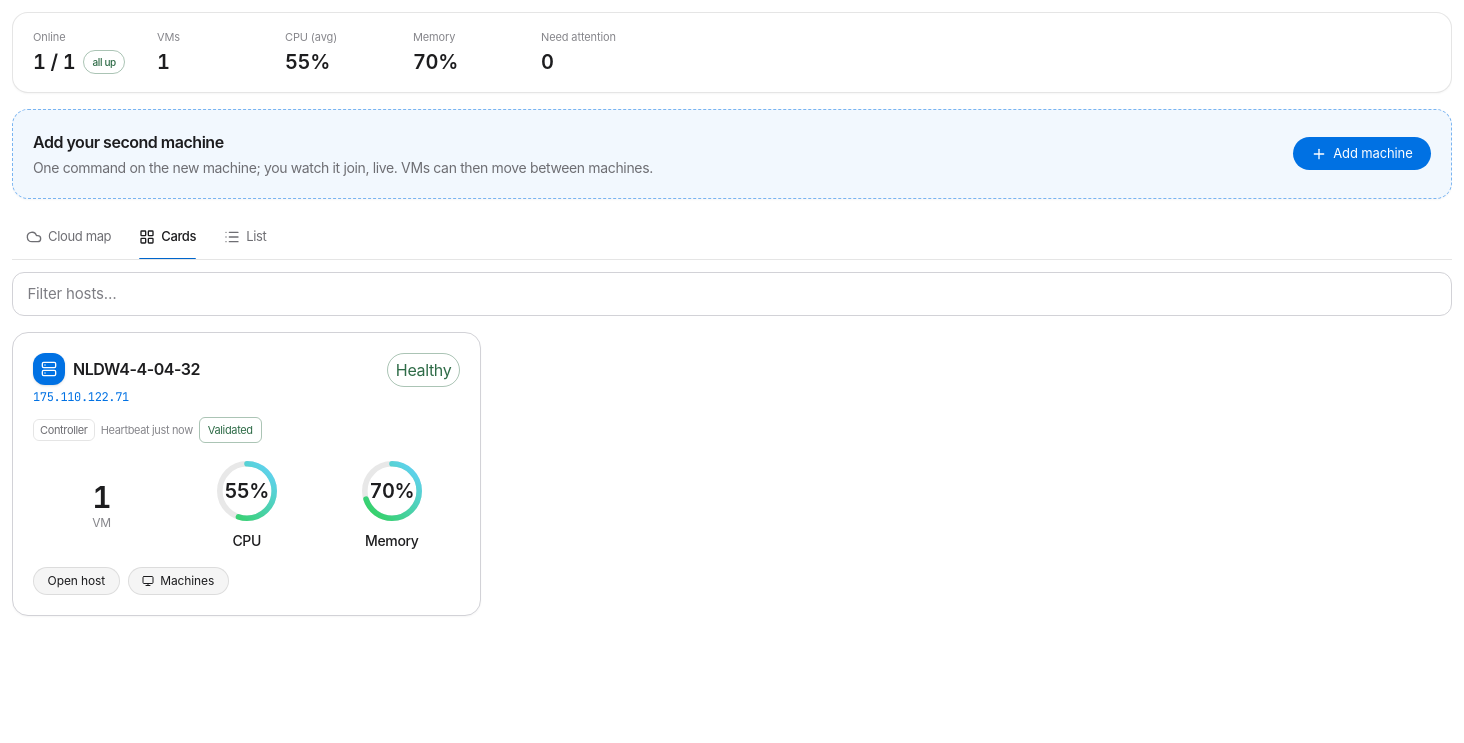
Test case: PlatformHosts › selecting a host opens the drawer
Click the element with test id "host-fleet-card-h1".
click(247, 474)  # box [12, 332, 481, 616]
(page scrolled)
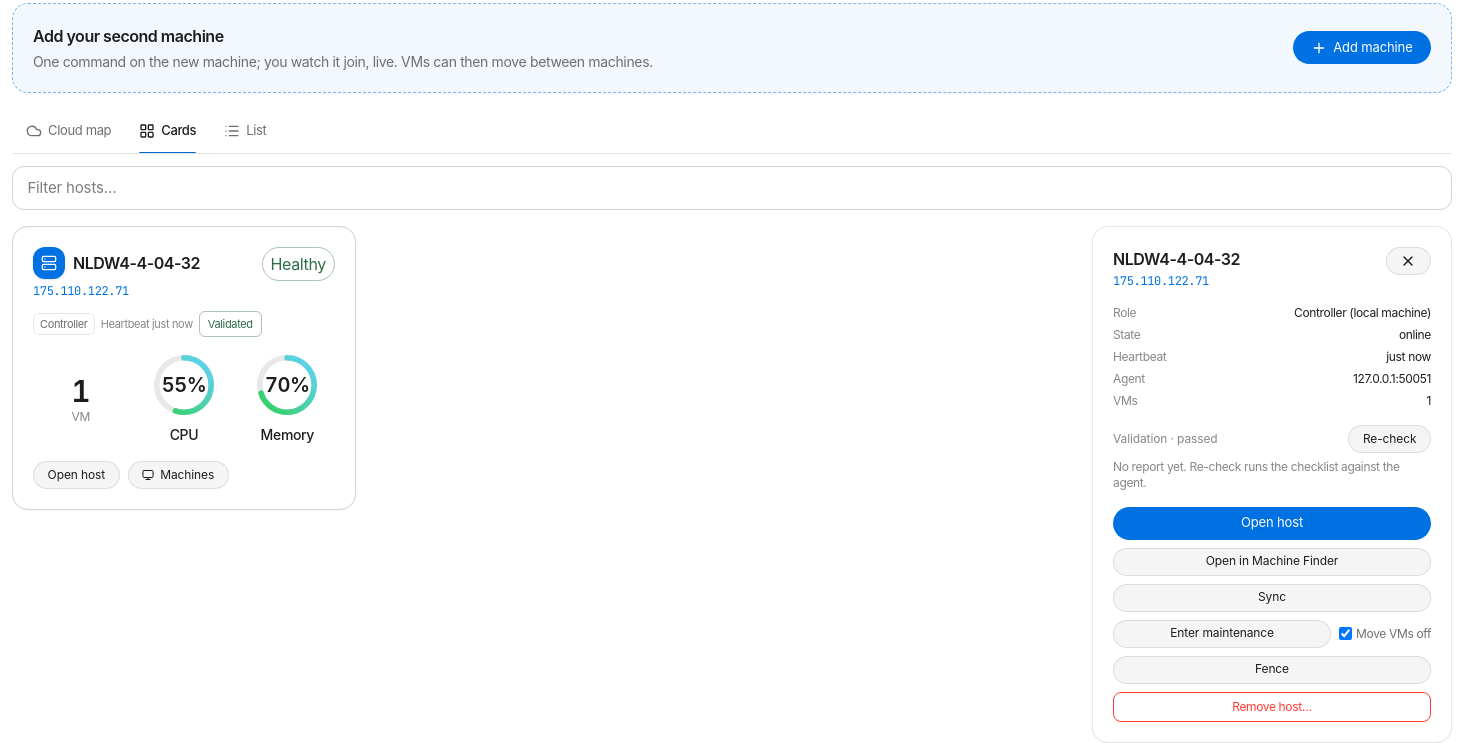
expect the element with test id "host-drawer" is shown: met, box [1092, 226, 1452, 742]
